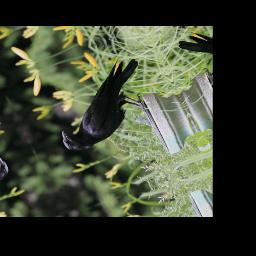Crow: (36, 52, 168, 156)
